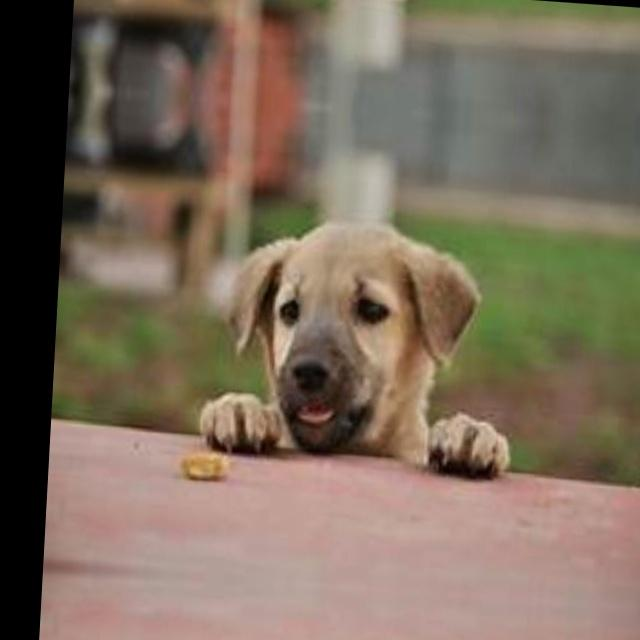dog: (216, 172, 507, 506), (240, 0, 516, 50)
